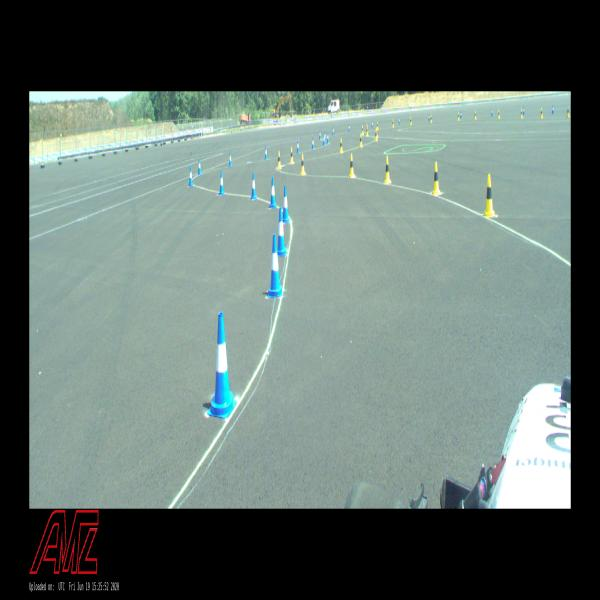blue_cone: (208, 312, 236, 418), (268, 234, 282, 298), (278, 208, 286, 256), (269, 177, 276, 208), (283, 186, 289, 222), (251, 172, 257, 200), (219, 171, 225, 195), (189, 167, 193, 186), (198, 158, 202, 175), (264, 146, 268, 161), (296, 140, 300, 153), (229, 153, 232, 167), (326, 133, 329, 144), (312, 138, 314, 150), (323, 134, 325, 146), (324, 132, 326, 142), (319, 130, 321, 139), (552, 105, 554, 113), (491, 109, 493, 116), (398, 117, 400, 124), (428, 114, 430, 121), (460, 112, 462, 118), (333, 127, 334, 136), (523, 106, 524, 115), (372, 120, 373, 128), (349, 125, 350, 132)
yellow_cone: (484, 174, 495, 217), (432, 162, 440, 194), (384, 156, 390, 183), (349, 154, 355, 177), (300, 154, 306, 175), (290, 147, 294, 163), (278, 151, 281, 169), (359, 134, 363, 147), (340, 138, 343, 153), (375, 129, 378, 141), (366, 124, 368, 136), (567, 107, 569, 117), (362, 125, 364, 135), (540, 108, 542, 118), (376, 128, 378, 138), (520, 109, 522, 118), (392, 120, 394, 128), (498, 110, 500, 118), (430, 115, 432, 122), (475, 111, 476, 119), (377, 122, 378, 130), (458, 113, 459, 120), (410, 118, 411, 124)
